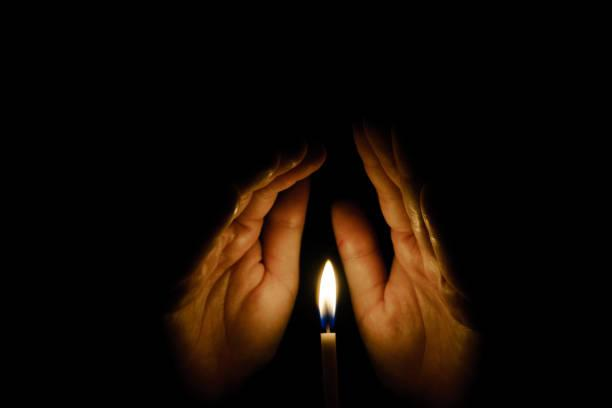Fire: (313, 258, 342, 330)
